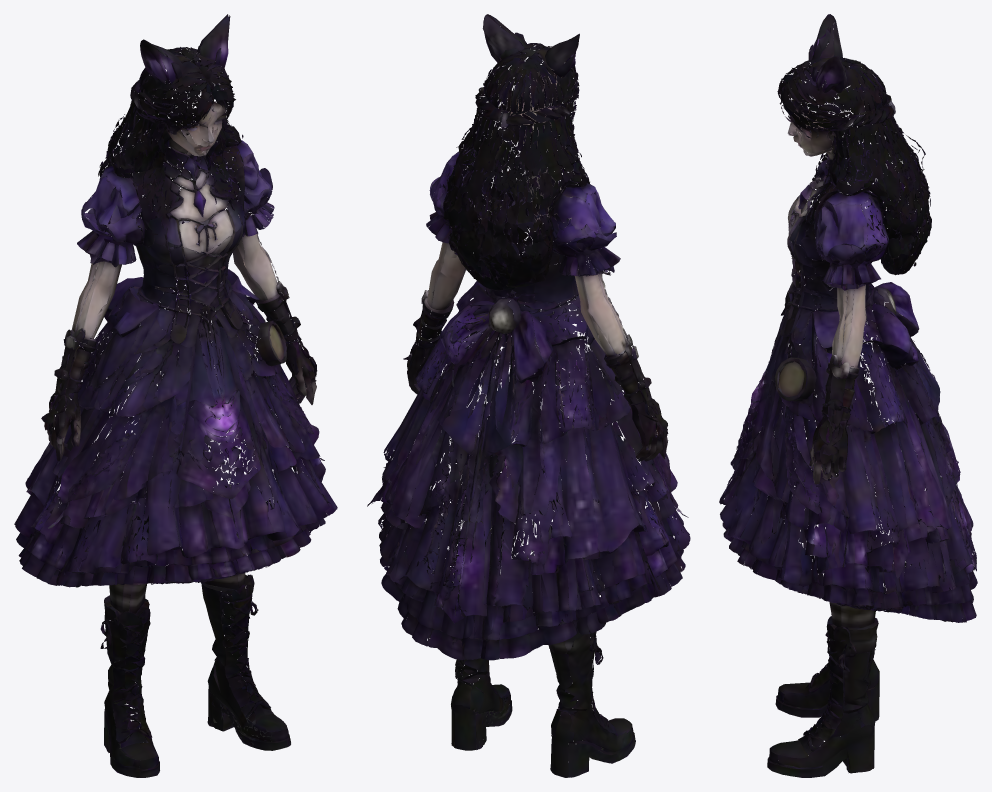
The model's file is alice-vestido-cheshire.glb.
3 renders of one model, left to right at view 1: azimuth 30°, elevation 25°; view 2: azimuth 150°, elevation 25°; view 3: azimuth 270°, elevation 25°, orthographic. The views are drawn at different scales.
Parts seen in each view (by area): view 1: node_0; view 2: node_0; view 3: node_0.
Part boxes in pixels (left/top/right/bottom): node_0: left=14, top=14, right=337, bottom=777; node_0: left=367, top=14, right=690, bottom=777; node_0: left=719, top=14, right=977, bottom=777.
Size of the model in its own units: 0.4914 by 1.15 by 0.3821.
Materials: 1 (1 with a texture image).
